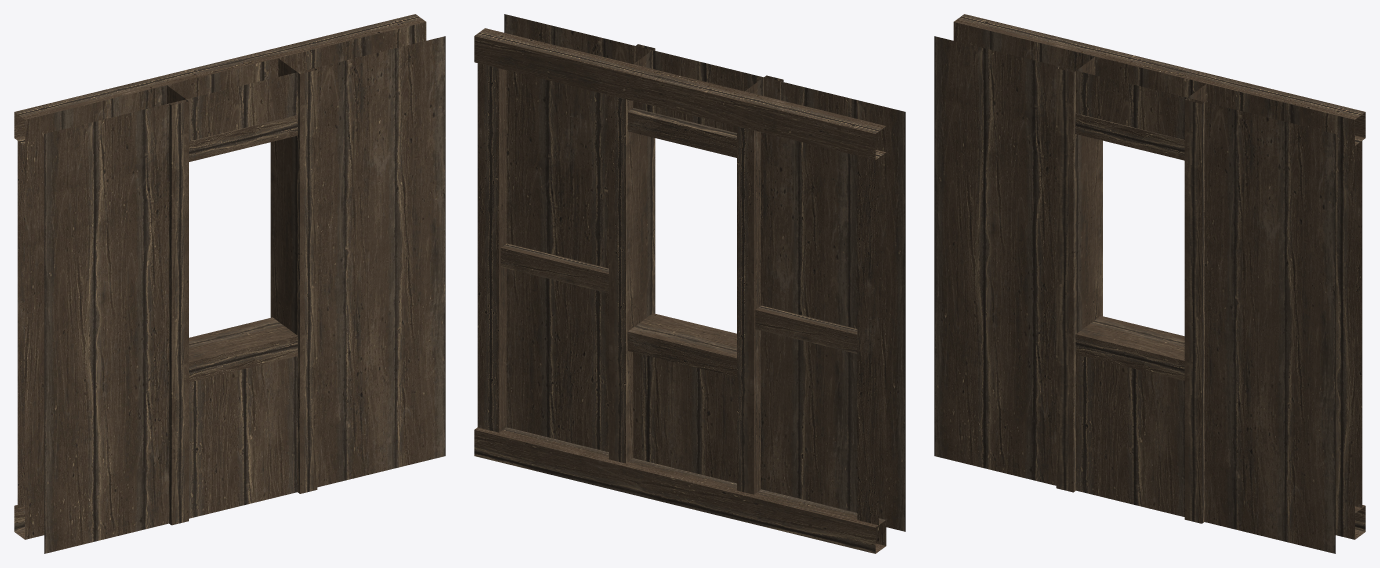
File: ARC1010330.fbx
The picture shows the model from 3 angles, left to right: view 1: azimuth 30°, elevation 25°; view 2: azimuth 150°, elevation 25°; view 3: azimuth 330°, elevation 25°; orthographic projection.
Visible parts, largest first — view 1: smARC1010330; view 2: smARC1010330; view 3: smARC1010330.
Boxes of the visible parts, <box> form: smARC1010330: <box>14,14,445,553</box>; smARC1010330: <box>474,14,905,553</box>; smARC1010330: <box>934,14,1365,553</box>.
Size of the model in its own units: 268 by 268 by 37.89.
Materials: 1 (1 with a texture image).
